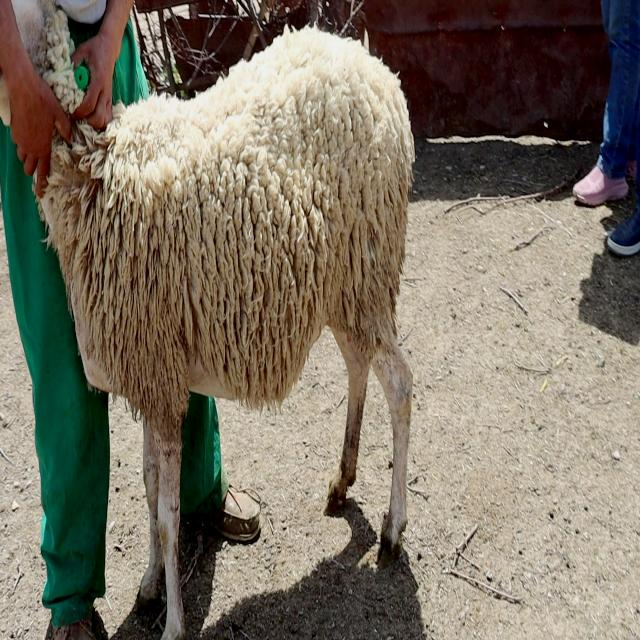Score_5: (36, 27, 414, 639)
